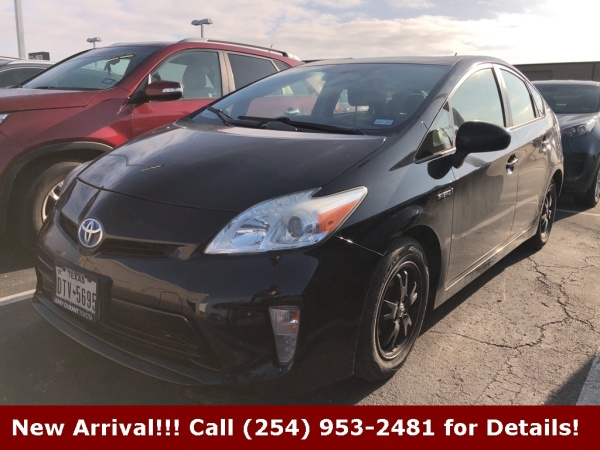Toyota Prius: (30, 53, 566, 403)
